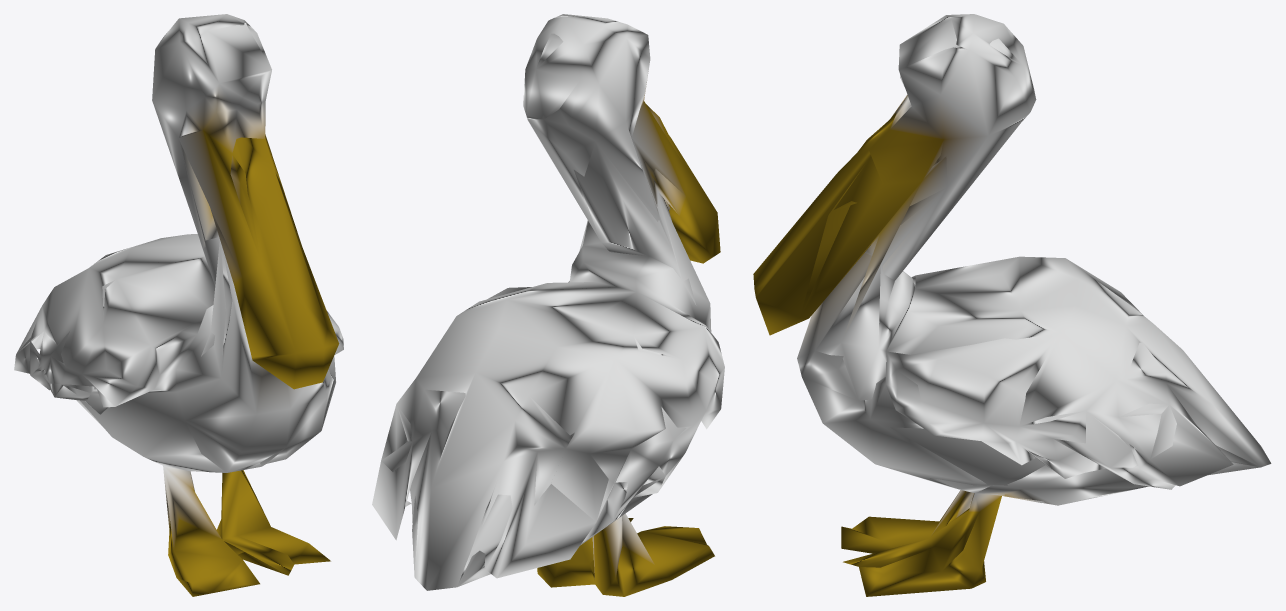
Rendered from gen3d-pelican-lod1.glb.
3 renders of one model, left to right at view 1: azimuth 30°, elevation 25°; view 2: azimuth 150°, elevation 25°; view 3: azimuth 270°, elevation 25°, orthographic. The views are drawn at different scales.
Parts seen in each view (by area): view 1: part_0; view 2: part_0; view 3: part_0.
Part boxes in pixels (<box>): part_0: <box>14,14,343,596</box>; part_0: <box>372,14,724,596</box>; part_0: <box>753,14,1271,596</box>.
Size of the model in its own units: 0.4817 by 0.9963 by 0.8566.
